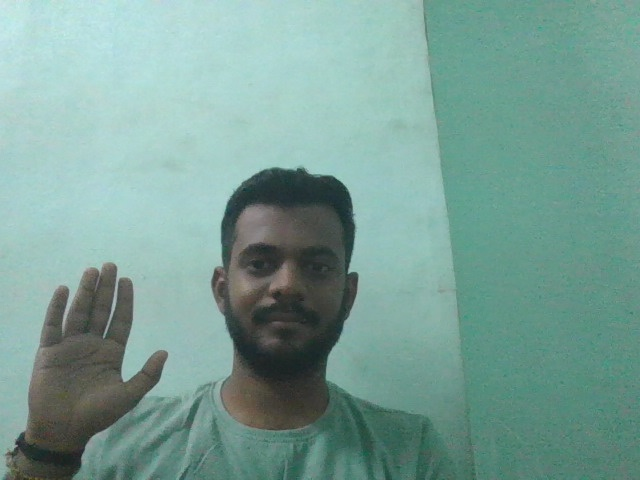hello: (13, 265, 183, 444)
